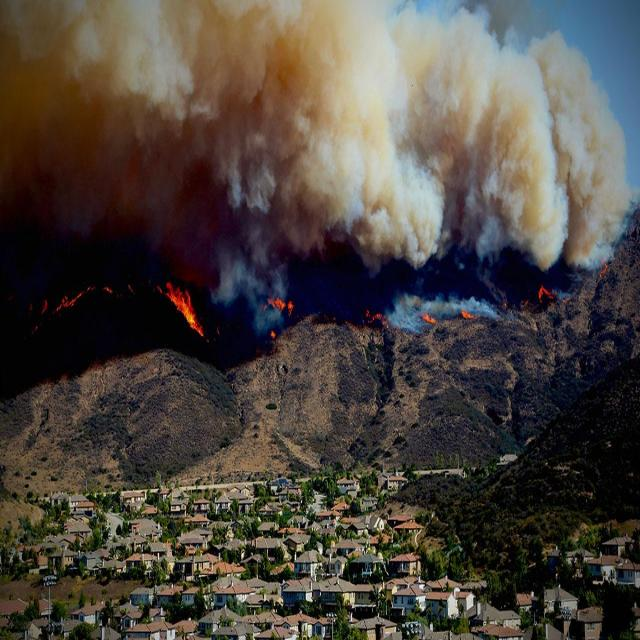smoke: (325, 38, 600, 228)
